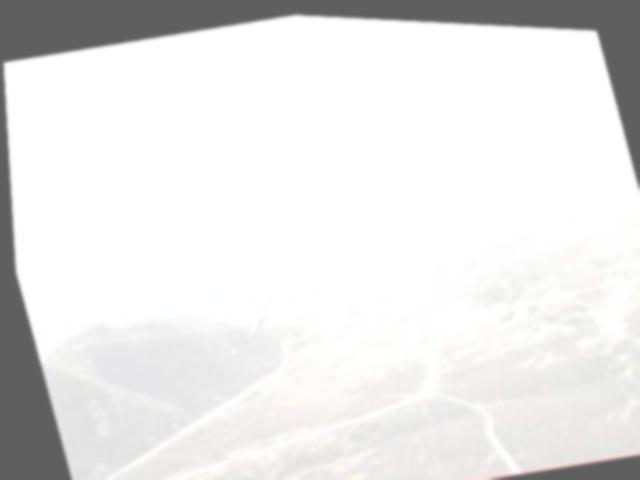iha: (219, 307, 271, 354)
